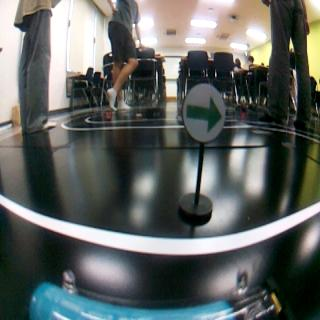right: (182, 82, 226, 143)
